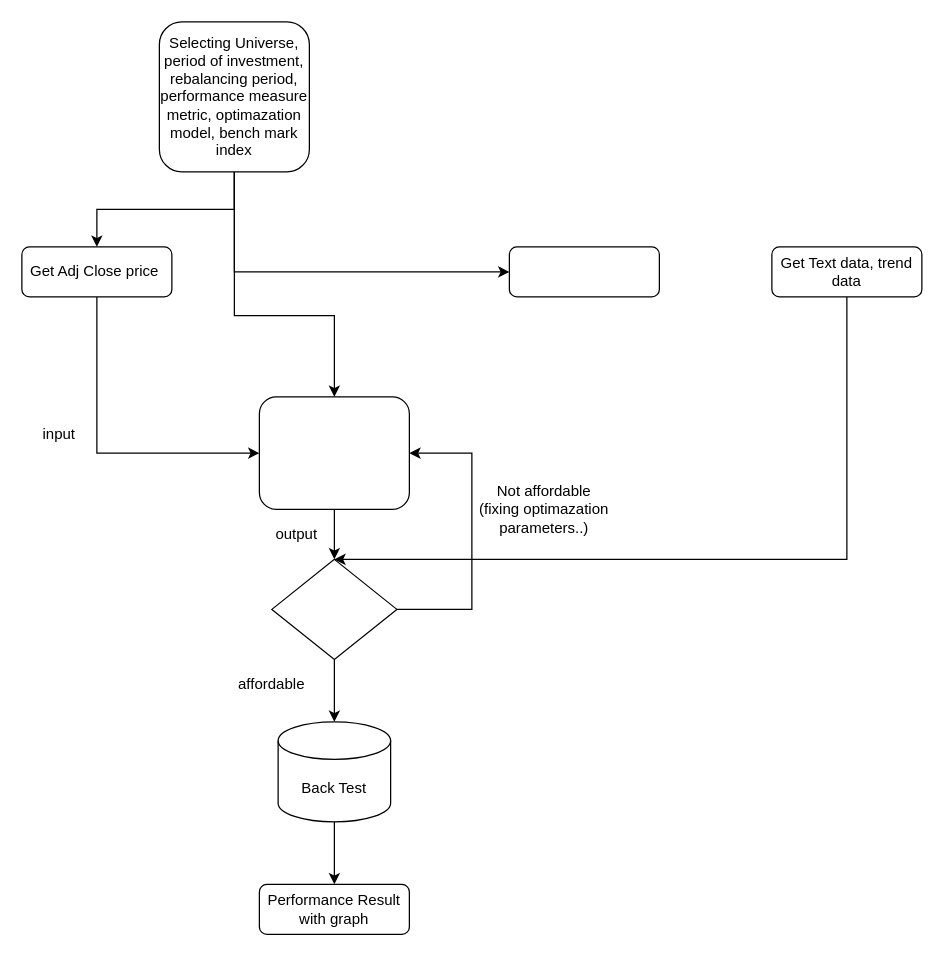
Some shapes in this 944 by 956 pixel diagram are drawn without their labels. The centre of each missing label's shape, as x and y in pixels:
Data Anlaysis: (x=334, y=608)
Find Optimazation model: (x=333, y=452)
Get bench mark index: (x=583, y=271)
